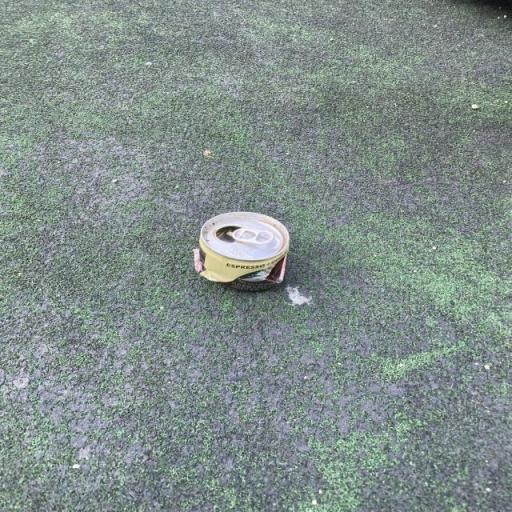metal: (194, 212, 289, 290)
